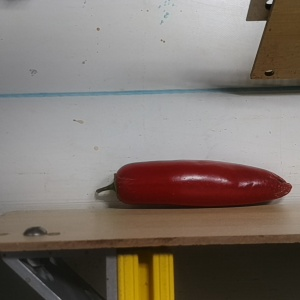Cut Point: (104, 163, 132, 207)
